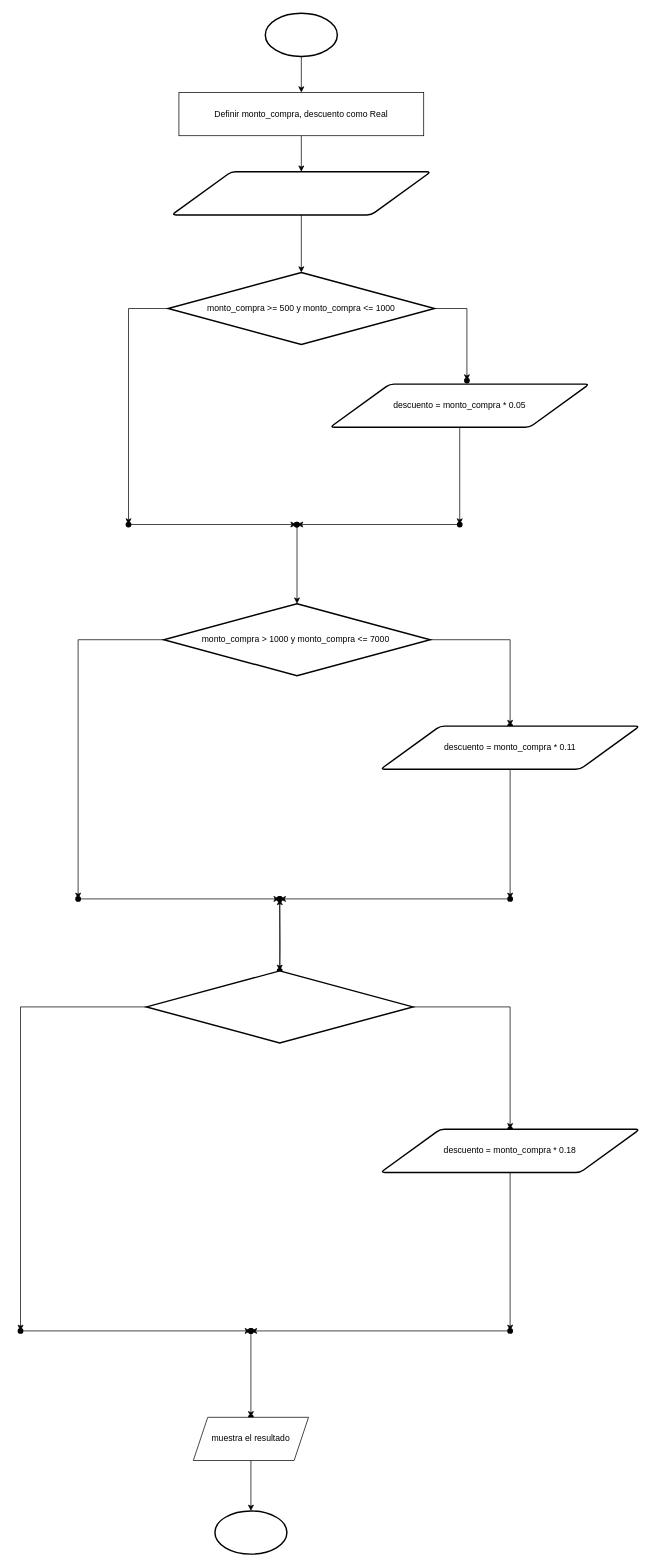
Some shapes in this 652 by 1567 pixel diagram are drawn without their labels. Each missing label, with the centre of its shape:
"fin" belongs at (x=250, y=1532).
"inicio" belongs at (x=301, y=34).
"monto_compra" belongs at (x=301, y=193).
"monto_compra > 15000" belongs at (x=279, y=1006).
